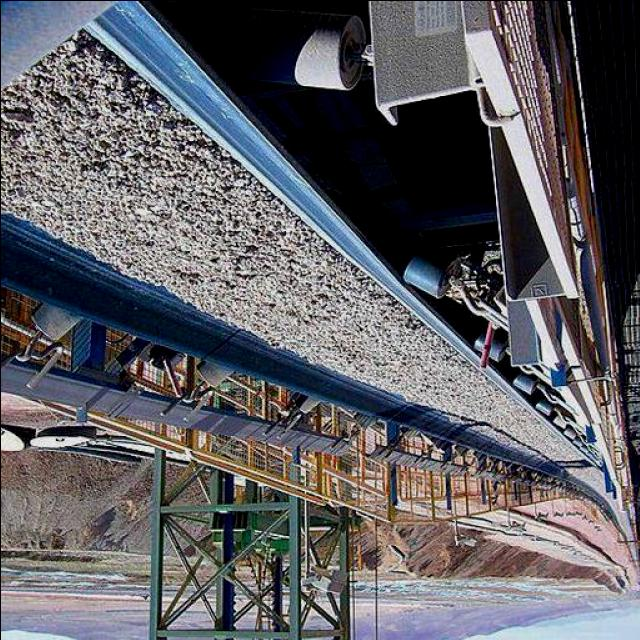conveyor: (0, 22, 638, 559)
